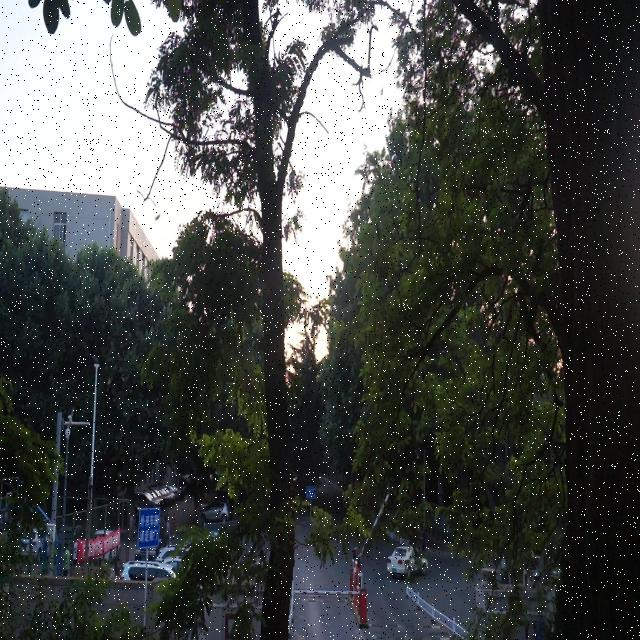UAV: (154, 213, 160, 220)
